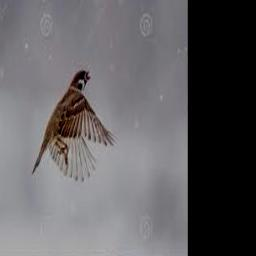Sparrow: (32, 69, 117, 182)
